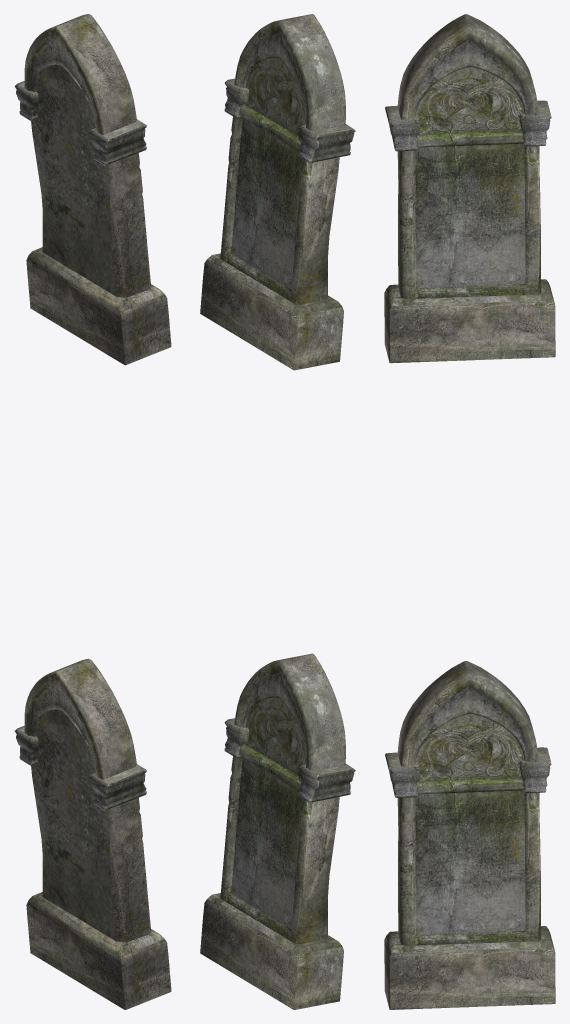
The model's file is grave.fbx.
3 views of the same model, side by side, from view 1: azimuth 30°, elevation 25°; view 2: azimuth 210°, elevation 25°; view 3: azimuth 270°, elevation 25° (orthographic).
Visible parts, largest first — view 1: o210202_0, o210201_0; view 2: o210201_0, o210202_0; view 3: o210202_0, o210201_0.
Part boxes in pixels (x1,y1,x2,y2): o210202_0: (14, 658, 171, 1009); o210201_0: (14, 14, 171, 365); o210201_0: (200, 14, 355, 370); o210202_0: (200, 653, 355, 1009); o210202_0: (384, 661, 555, 1009); o210201_0: (384, 14, 555, 363).
Bounding box in the file's own units: 2840 × 32667 × 5244.
2 materials, 2 textured.
